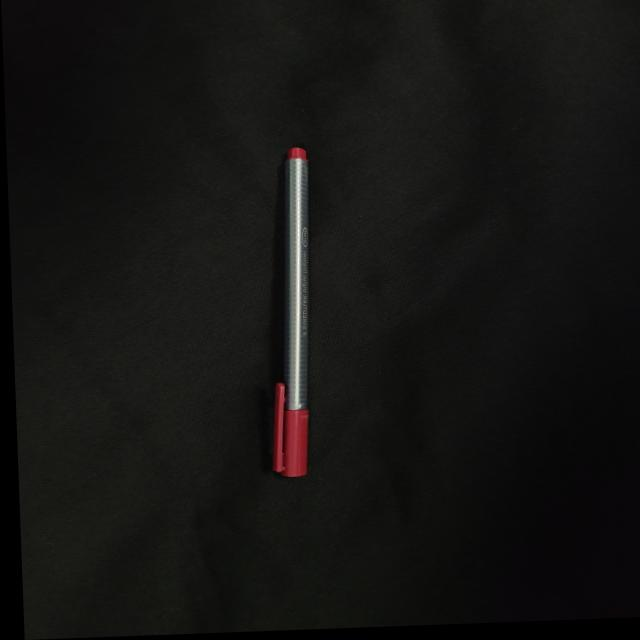caneta: (235, 150, 335, 496)
